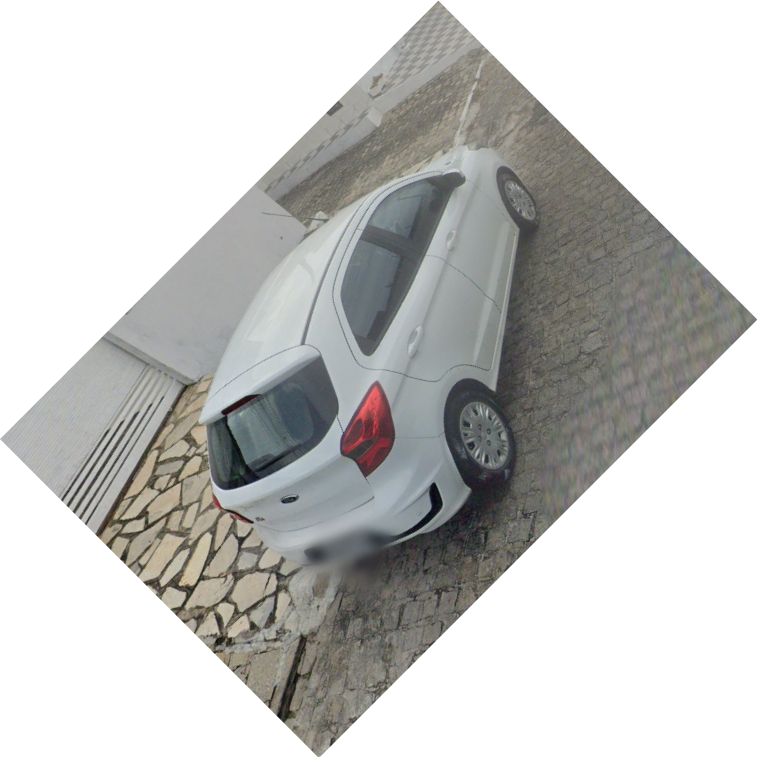car: (199, 142, 538, 567)
